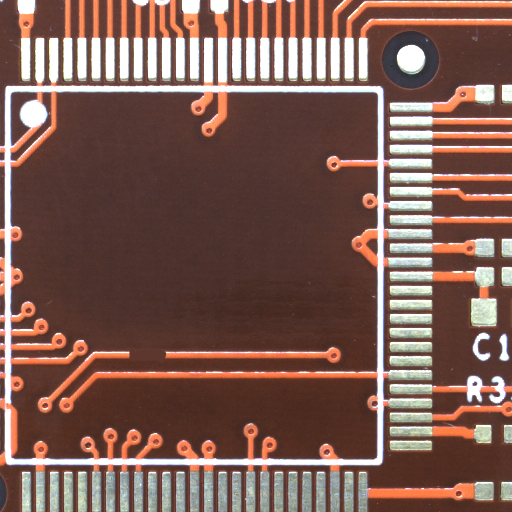Open_circuit: (147, 353, 186, 370)
